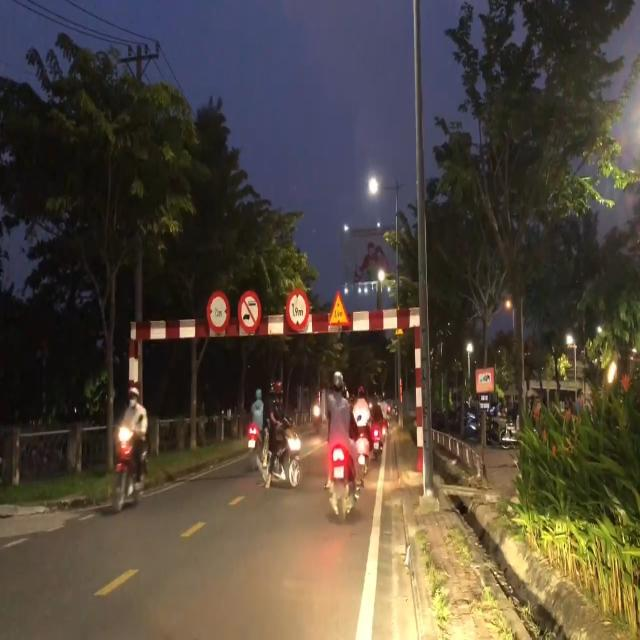Bien bao cam xe oto khach va xe oto tai: (237, 288, 263, 336)
Bien bao chieu cao tinh khong thuc te: (327, 286, 352, 331)
Bien bao han che chieu cao: (285, 288, 310, 335)
